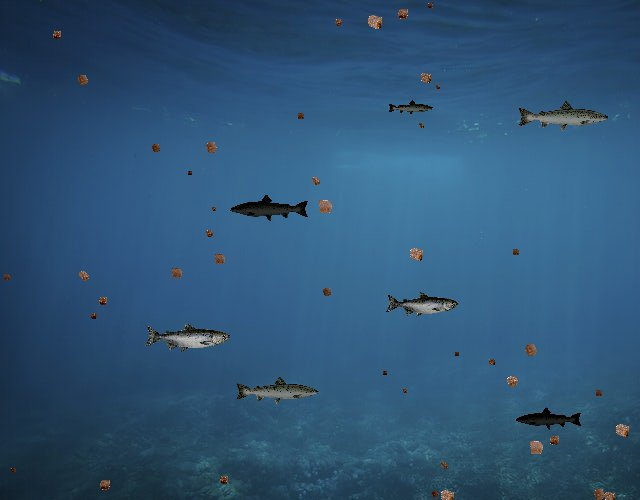Fish: (517, 99, 611, 133), (234, 375, 320, 406), (144, 322, 230, 353), (230, 194, 311, 223), (386, 292, 459, 318), (515, 407, 583, 431), (387, 99, 434, 116)
Pellet: (518, 337, 544, 363), (500, 369, 525, 394), (72, 265, 94, 287), (484, 355, 498, 369), (424, 0, 437, 12), (208, 204, 218, 214)
